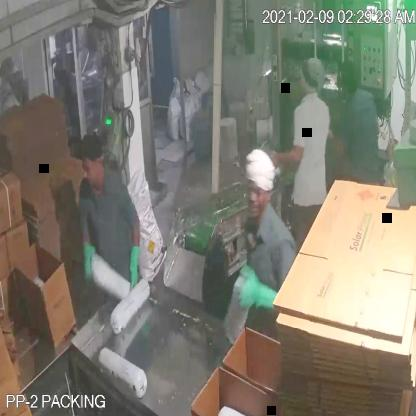glove: (226, 256, 282, 319), (76, 227, 98, 291), (126, 235, 143, 300)
no_glove: (266, 140, 309, 173)
